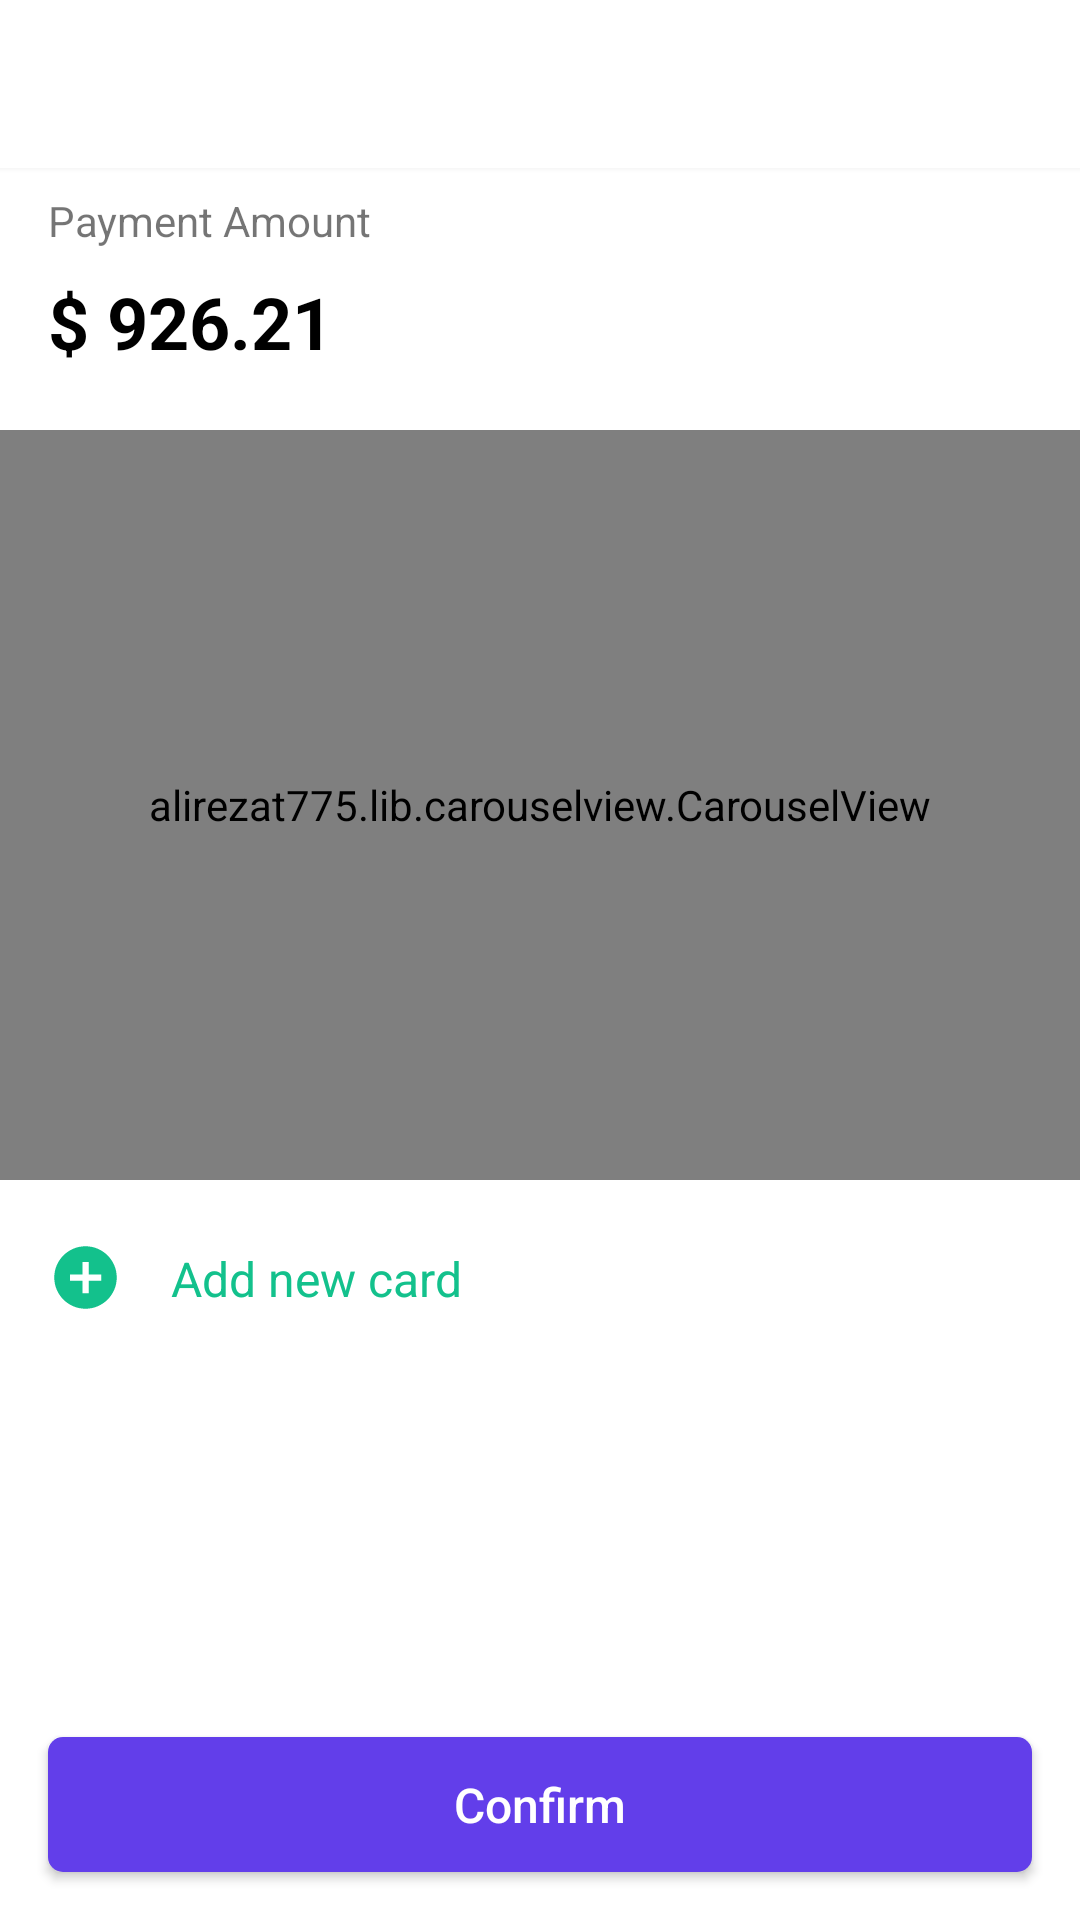

Screen size 1080*1920. Icon name, then its center in pixels as [x,y]:
add circle: [85,1277]
